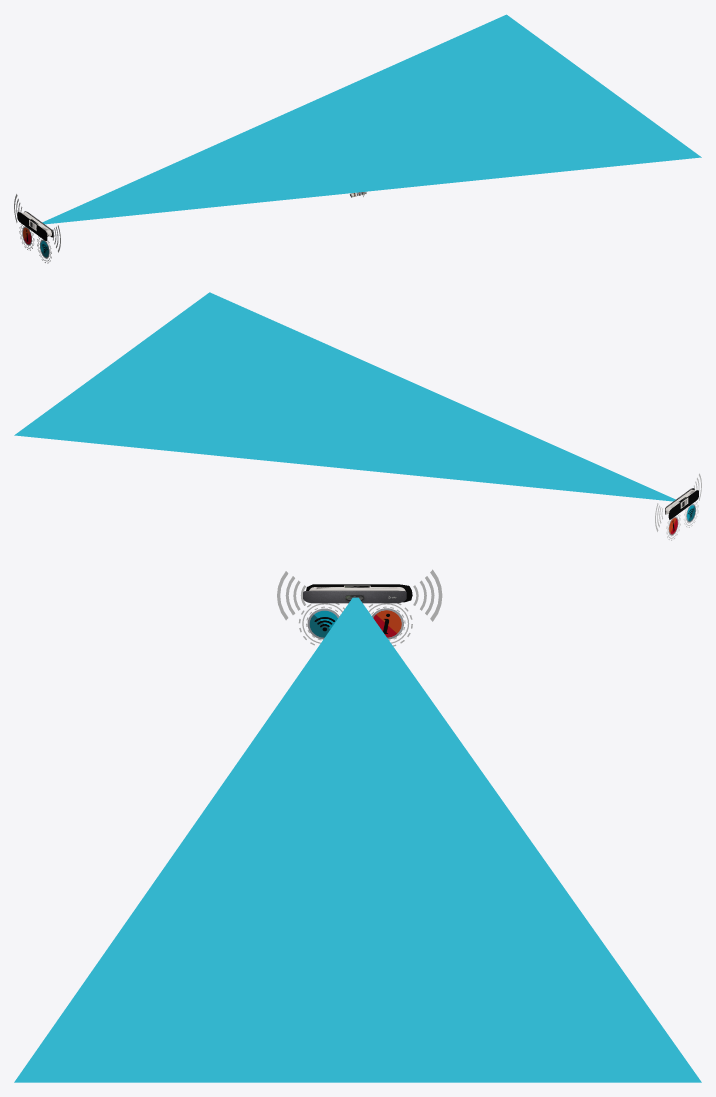
File: MediumProps_Polystudio_x50.glb
3 views of the same model, one above another, from view 1: azimuth 30°, elevation 25°; view 2: azimuth 150°, elevation 25°; view 3: azimuth 270°, elevation 25° (orthographic). The views are drawn at different scales.
Parts seen in each view (by area): view 1: Range_Polystudio_x50; view 2: Range_Polystudio_x50; view 3: Range_Polystudio_x50, MediumProps_Polystudio_x50, CamPop_Polystudio.
Boxes of the visible parts, <box> form: Range_Polystudio_x50: <box>42,14,701,224</box>; Range_Polystudio_x50: <box>14,292,675,501</box>; Range_Polystudio_x50: <box>14,597,701,1082</box>; MediumProps_Polystudio_x50: <box>303,585,406,603</box>; CamPop_Polystudio: <box>277,569,442,621</box>.
Bounding box in the file's own units: 7.64 × 0.5843 × 4.52.
Materials: 8 (4 with a texture image).
